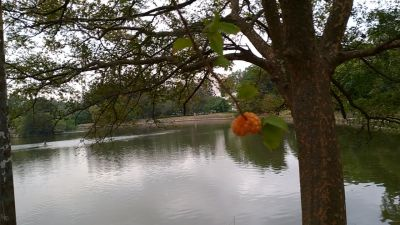eggs: (231, 112, 262, 138)
